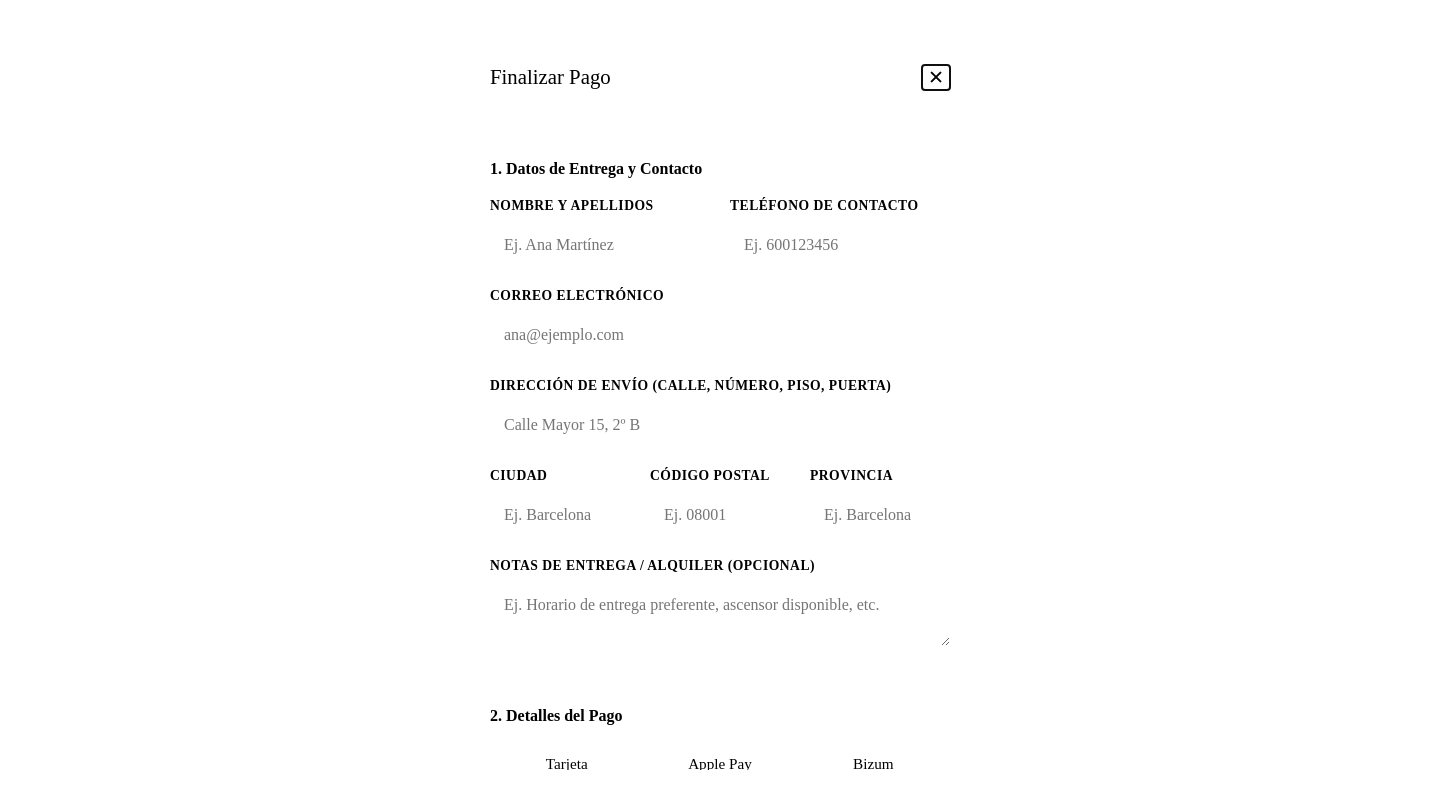
Test: CheckoutModal — pestañas de pago › Apple Pay y Bizum avisan de que aún no están disponibles
Click the button "Apple Pay": (720,764) [643,740,797,790]
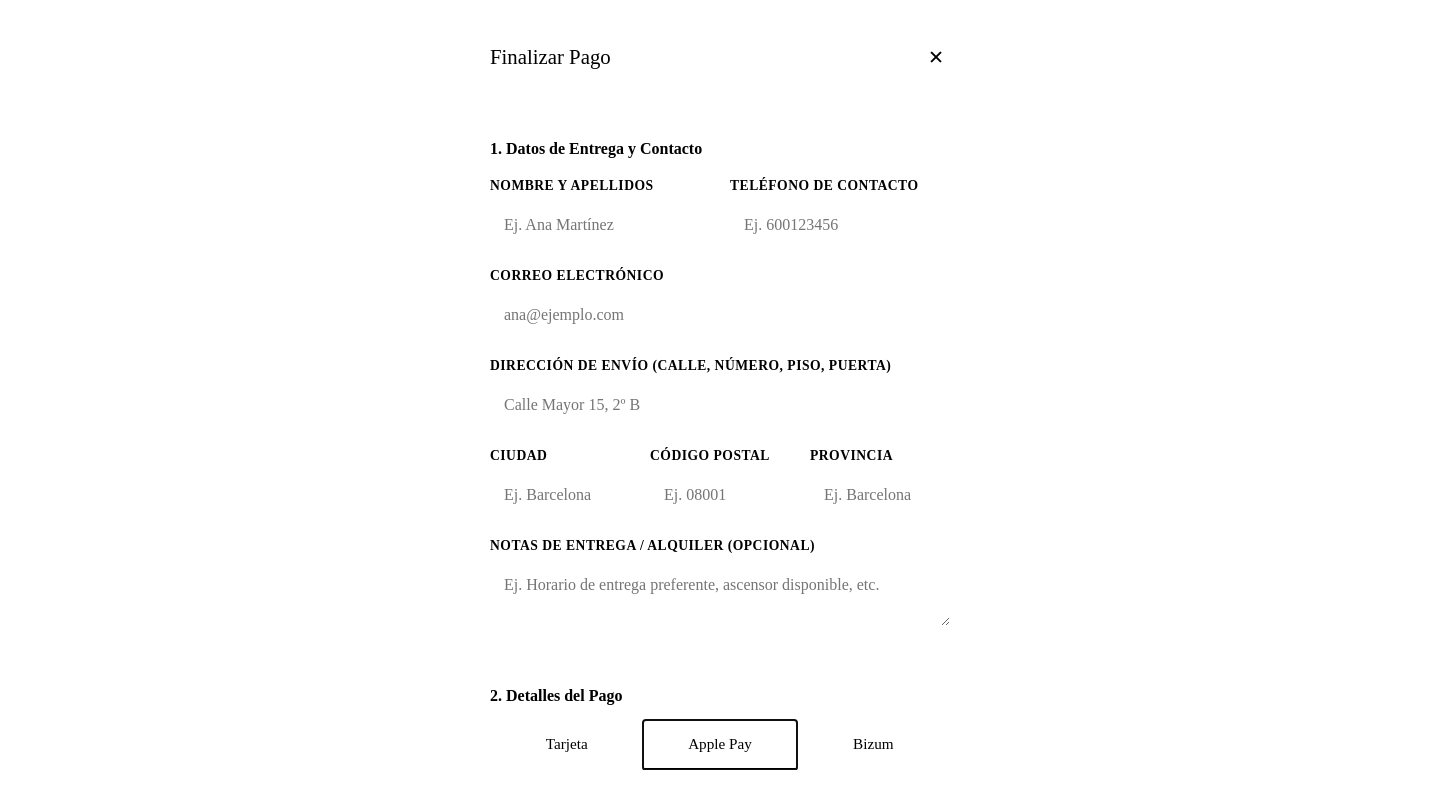
Click the button "Bizum": (873,744) [797,720,950,770]
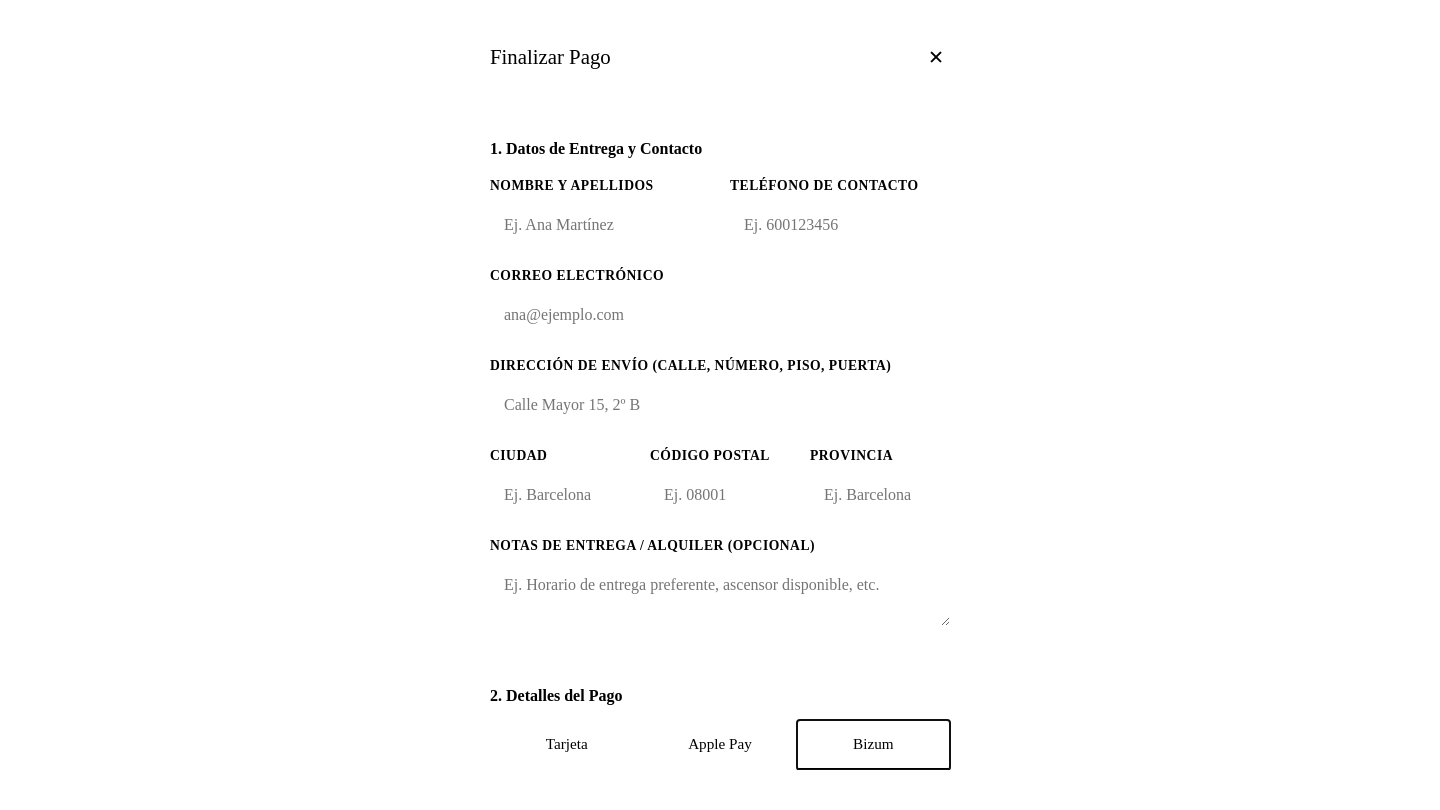
Click the button "Tarjeta": (567,744) [490,720,643,770]
(page scrolled)
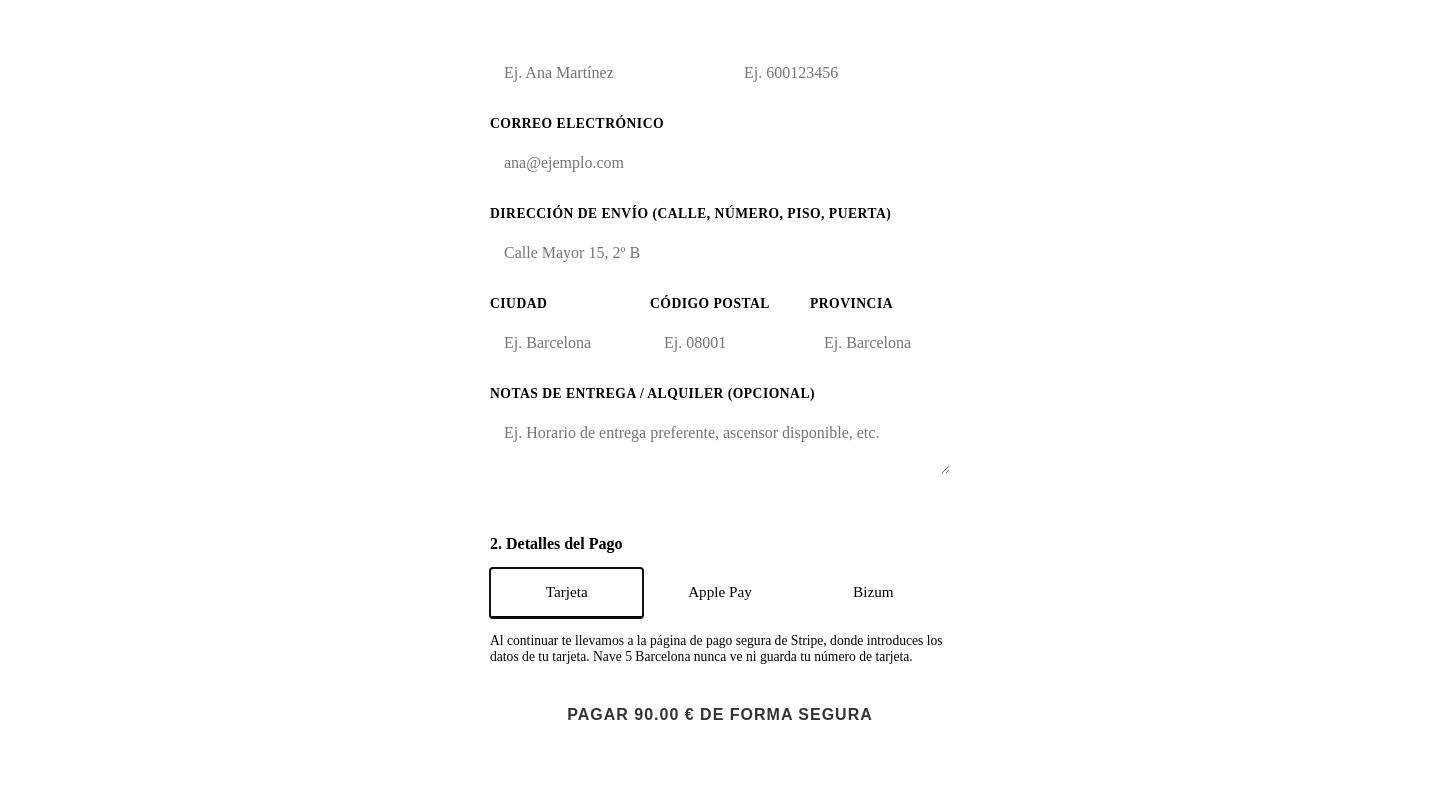
Expected: the button "Pagar 90.00 € de forma segura" is shown, [490,690,950,740]
